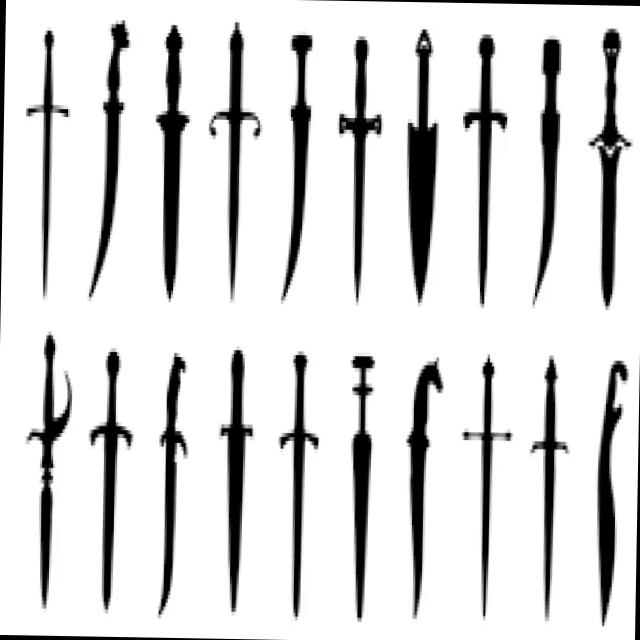Gun: (392, 10, 453, 324), (458, 343, 515, 621), (331, 6, 383, 308), (17, 34, 76, 293), (458, 19, 509, 318), (332, 335, 384, 628), (520, 344, 574, 620), (212, 21, 266, 296), (144, 16, 194, 304), (23, 334, 73, 614), (275, 7, 321, 310), (88, 14, 136, 292), (591, 24, 635, 324), (147, 343, 192, 619), (526, 39, 570, 315), (401, 340, 444, 622), (88, 341, 130, 617), (281, 350, 318, 630), (217, 346, 254, 624), (590, 349, 625, 640)
